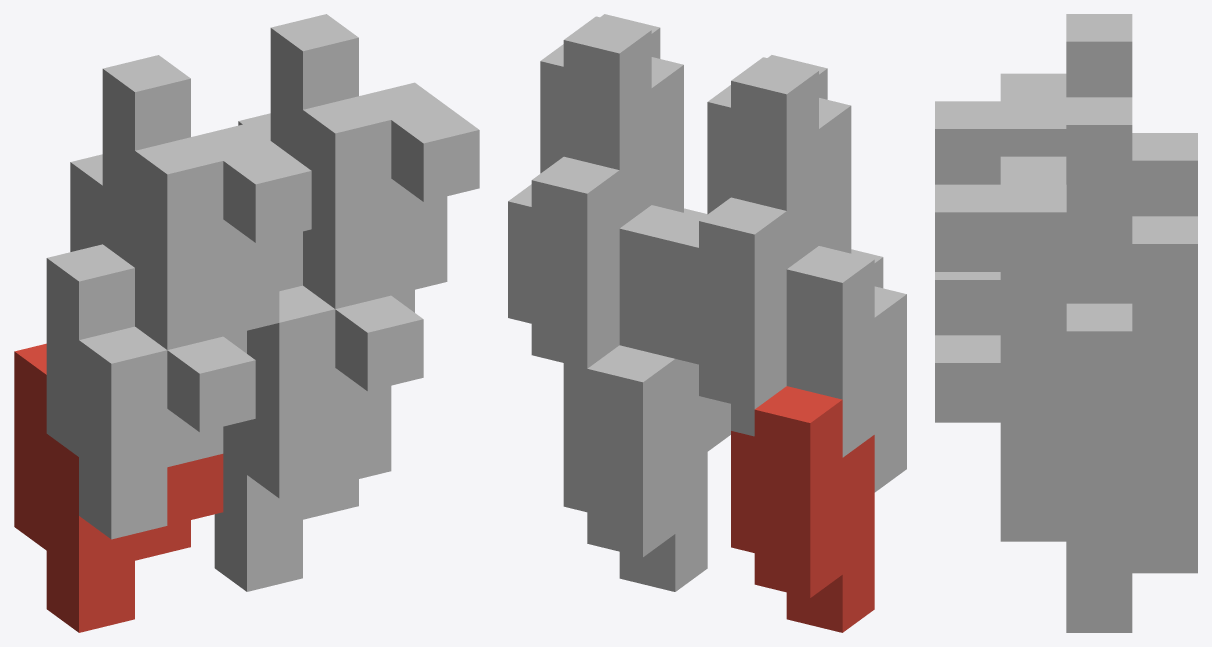
The model's file is tiling.obj.
The picture shows the model from 3 angles, left to right: view 1: azimuth 30°, elevation 25°; view 2: azimuth 150°, elevation 25°; view 3: azimuth 270°, elevation 25°; orthographic projection. The views are drawn at different scales.
Visible parts, largest first — view 1: copy_1_domain_4, copy_1_domain_2, copy_1_domain_8, copy_1_domain_6, copy_1_domain_1, copy_1_domain_5, copy_1_domain_3, copy_1_domain_7; view 2: copy_1_domain_5, copy_1_domain_1, copy_1_domain_4, copy_1_domain_8, copy_1_domain_7, copy_1_domain_3, copy_1_domain_2, copy_1_domain_6; view 3: copy_1_domain_8, copy_1_domain_7, copy_1_domain_5, copy_1_domain_4, copy_1_domain_6, copy_1_domain_3, copy_1_domain_2.
Boxes of the visible parts, box(x1,y1,x2,y2) form: copy_1_domain_4: box(102, 55, 311, 349); copy_1_domain_2: box(46, 244, 255, 539); copy_1_domain_8: box(270, 14, 479, 308); copy_1_domain_6: box(247, 231, 423, 498); copy_1_domain_1: box(14, 343, 223, 632); copy_1_domain_5: box(214, 413, 391, 591); copy_1_domain_3: box(70, 154, 279, 353); copy_1_domain_7: box(238, 113, 447, 312); copy_1_domain_5: box(563, 345, 707, 591); copy_1_domain_1: box(731, 386, 874, 632); copy_1_domain_4: box(707, 55, 851, 268); copy_1_domain_8: box(540, 14, 683, 227); copy_1_domain_7: box(508, 156, 619, 395); copy_1_domain_3: box(675, 197, 786, 436); copy_1_domain_2: box(786, 246, 906, 492); copy_1_domain_6: box(619, 205, 730, 451); copy_1_domain_8: box(935, 97, 1132, 331); copy_1_domain_7: box(1000, 216, 1197, 482); copy_1_domain_5: box(1000, 422, 1197, 632); copy_1_domain_4: box(935, 14, 1132, 184); copy_1_domain_6: box(935, 335, 1066, 482); copy_1_domain_3: box(1132, 133, 1197, 216); copy_1_domain_2: box(935, 272, 1000, 335).
Bounding box in the file's own units: 6 × 9 × 4.
